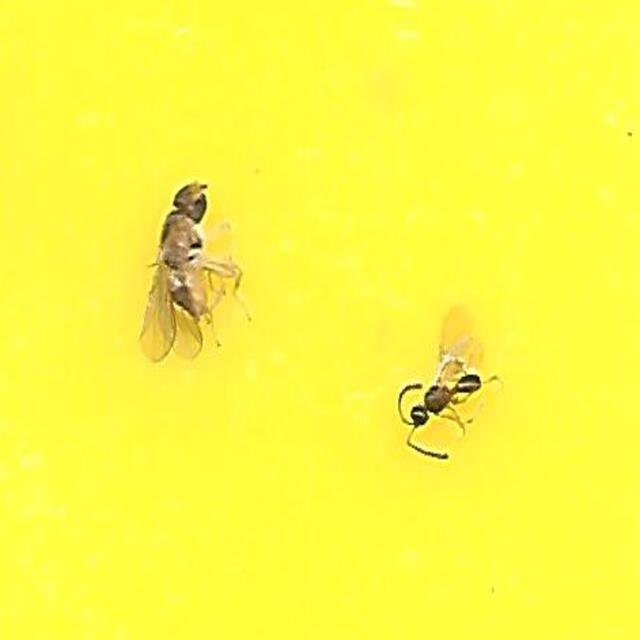Brachycera: (136, 179, 245, 362)
Hymenoptera: (397, 310, 504, 461)
